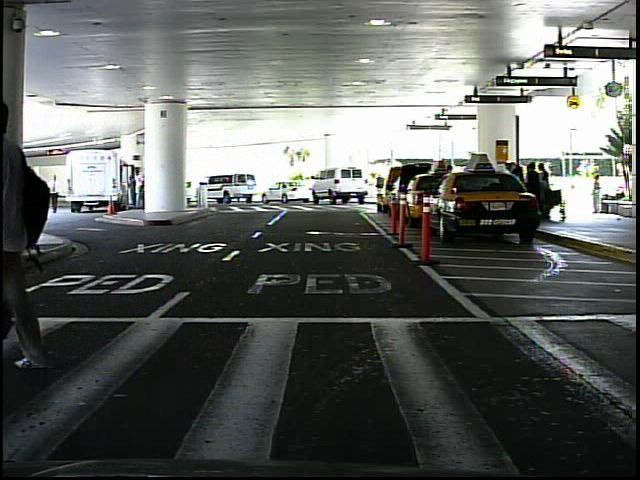person: (47, 171, 66, 221), (588, 172, 607, 218), (373, 172, 387, 199)
